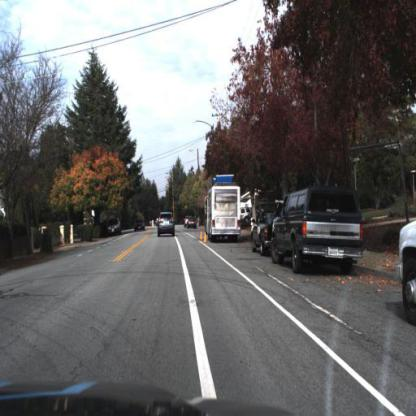car: (268, 184, 367, 276), (199, 173, 244, 248), (204, 180, 242, 245), (248, 199, 280, 256), (155, 209, 179, 241), (104, 211, 123, 240), (133, 218, 149, 237), (186, 215, 200, 236), (107, 220, 121, 237), (134, 220, 146, 234)
truck: (393, 210, 416, 332)
